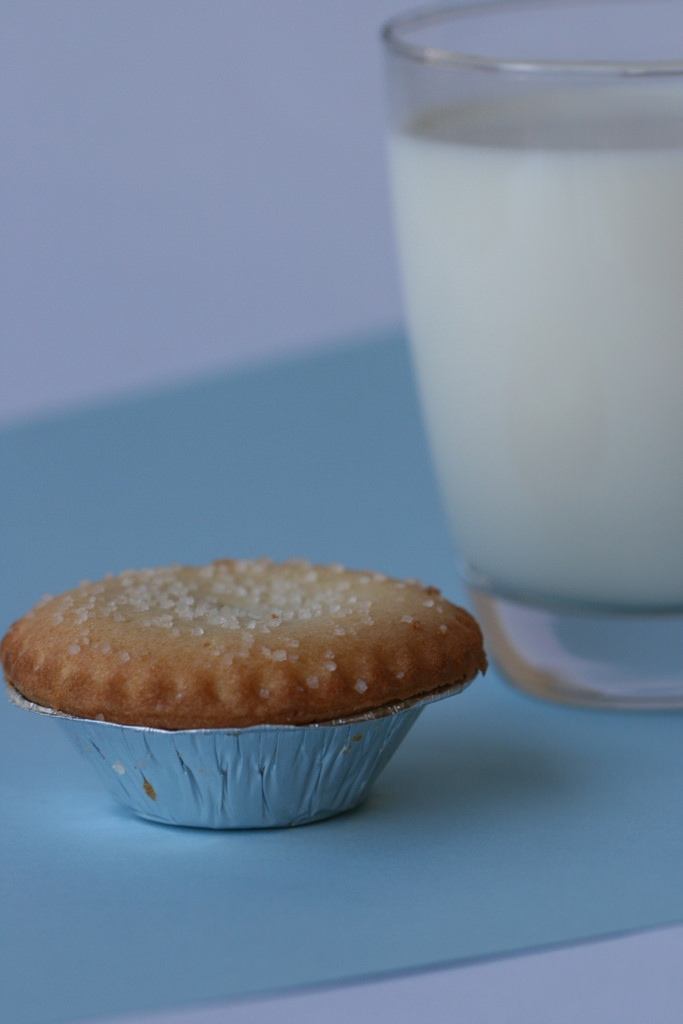slice of bread: (384, 44, 680, 716), (20, 592, 451, 746)
